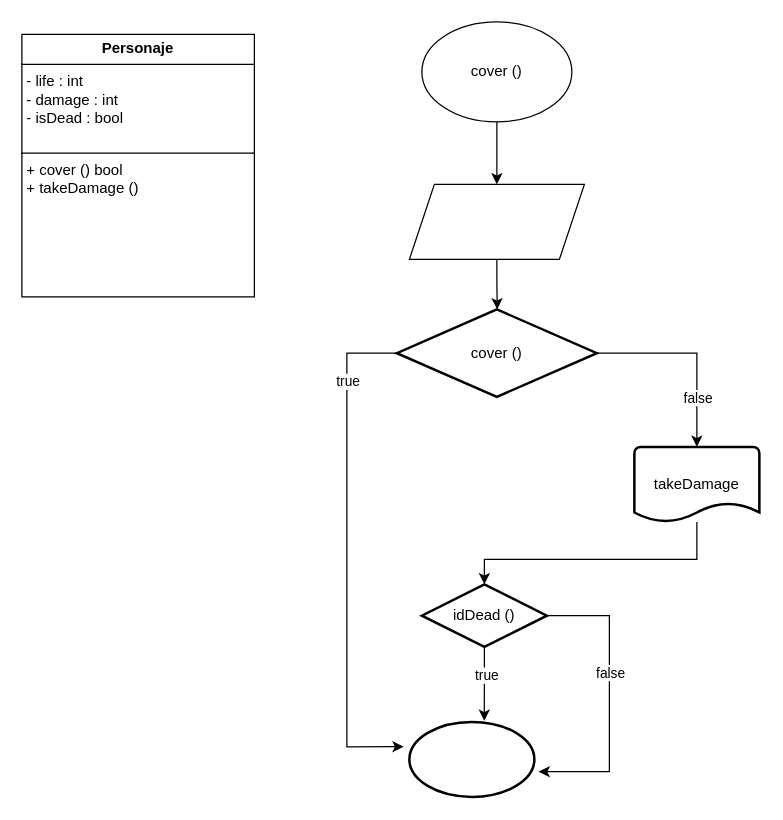
The diagram is 783 pixels wide and 820 high, and some of its shapes have lost their labels. Each missing label, with the centre of its shape:
"end" belongs at point 471,759.
"getTakeDamage ()" belongs at point 496,221.
